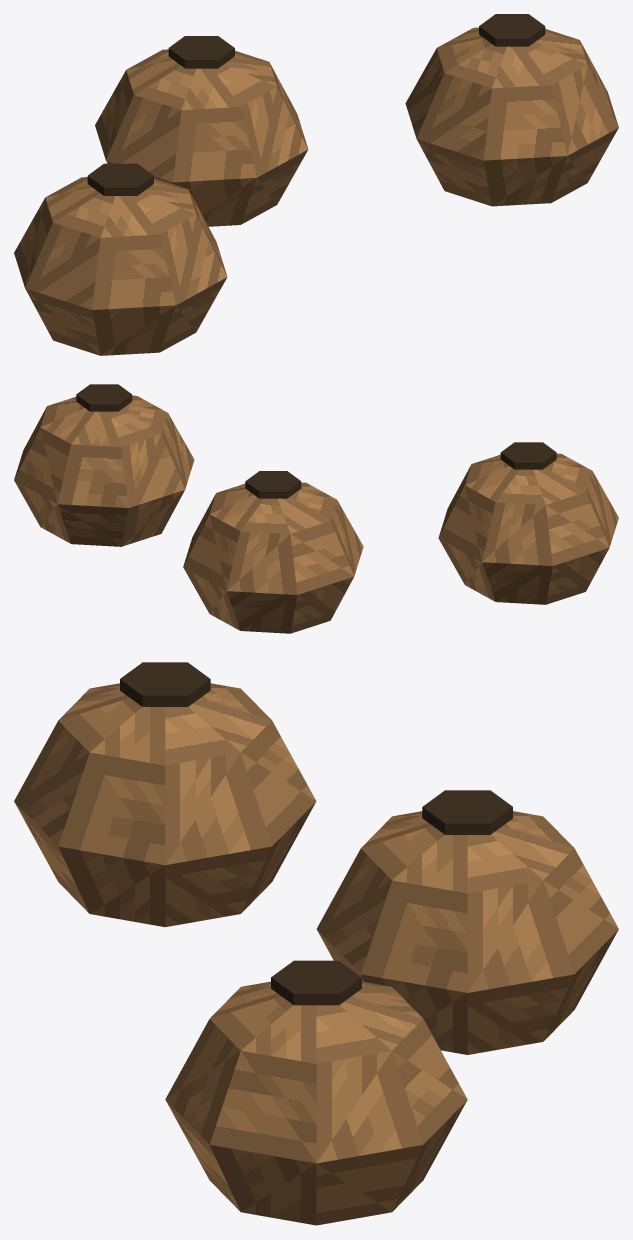
The model's file is wooden_bead.glb.
The picture shows the model from 3 angles, top to bottom: view 1: azimuth 30°, elevation 25°; view 2: azimuth 150°, elevation 25°; view 3: azimuth 270°, elevation 25°; orthographic projection. The views are drawn at different scales.
Parts seen in each view (by area): view 1: block_bead1, block_bead2, block_bead0, block_hole1, block_hole2, block_hole0; view 2: block_bead2, block_bead1, block_bead0, block_hole0, block_hole1, block_hole2; view 3: block_bead1, block_bead2, block_bead0, block_hole1, block_hole0, block_hole2.
Part boxes in pixels (x1=…): block_bead1: x1=405, y1=27, x2=618, y2=206; block_bead2: x1=14, y1=177, x2=227, y2=355; block_bead0: x1=95, y1=49, x2=308, y2=226; block_hole1: x1=479, y1=14, x2=545, y2=46; block_hole2: x1=87, y1=163, x2=153, y2=195; block_hole0: x1=168, y1=36, x2=234, y2=68; block_bead2: x1=438, y1=453, x2=618, y2=604; block_bead1: x1=14, y1=395, x2=194, y2=546; block_bead0: x1=183, y1=482, x2=363, y2=633; block_hole0: x1=245, y1=471, x2=301, y2=498; block_hole1: x1=76, y1=384, x2=132, y2=411; block_hole2: x1=500, y1=442, x2=556, y2=469; block_bead1: x1=165, y1=981, x2=467, y2=1225; block_bead2: x1=14, y1=683, x2=316, y2=927; block_bead0: x1=316, y1=811, x2=618, y2=1054; block_hole1: x1=271, y1=960, x2=361, y2=1005; block_hole0: x1=422, y1=790, x2=512, y2=834; block_hole2: x1=120, y1=662, x2=210, y2=706.
Size of the model in its own units: 0.04 by 0.0104 by 0.024.
1 material, 1 textured.
